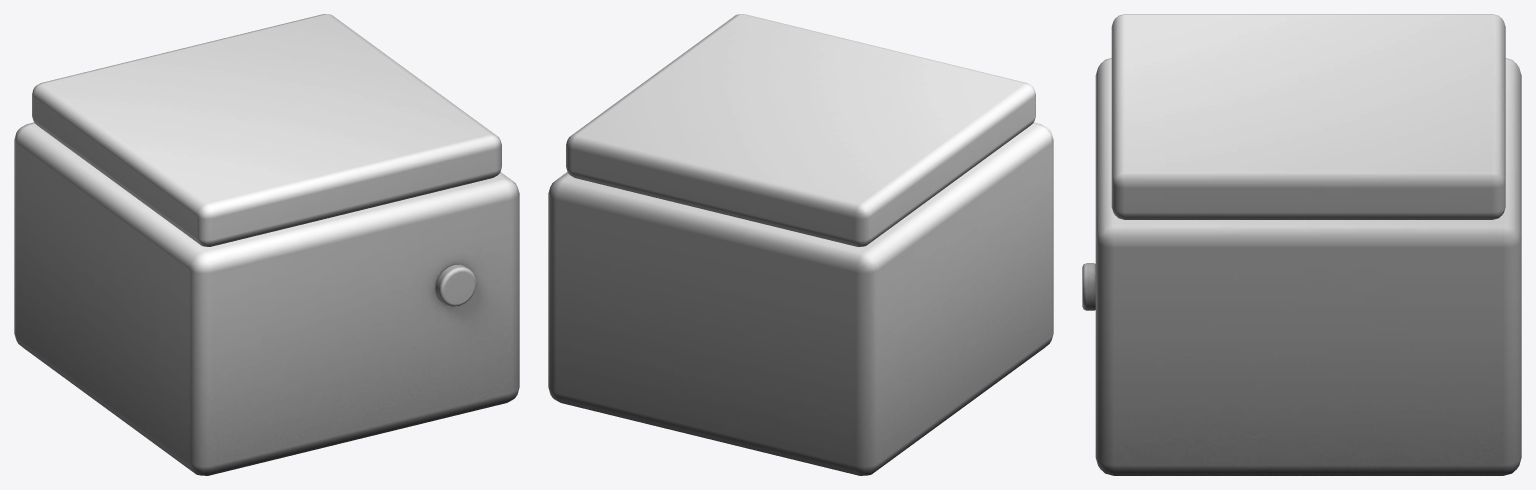
The model's file is _probe.glb.
3 renders of one model, left to right at view 1: azimuth 30°, elevation 25°; view 2: azimuth 150°, elevation 25°; view 3: azimuth 270°, elevation 25°, orthographic. The views are drawn at different scales.
Visible parts, largest first — view 1: body, lid.001, status; view 2: body, lid.001; view 3: body, lid.001, status.
Boxes of the visible parts, box(x1,y1,x2,y2) form: body: box(14, 122, 519, 475); lid.001: box(32, 14, 501, 246); status: box(435, 264, 476, 306); body: box(548, 122, 1053, 475); lid.001: box(566, 14, 1035, 246); body: box(1095, 58, 1521, 475); lid.001: box(1111, 14, 1505, 219); status: box(1082, 263, 1095, 310).
Size of what is drawn, in the model's own units: 0.8 by 0.62 by 0.825.
3 materials, 3 textured.
